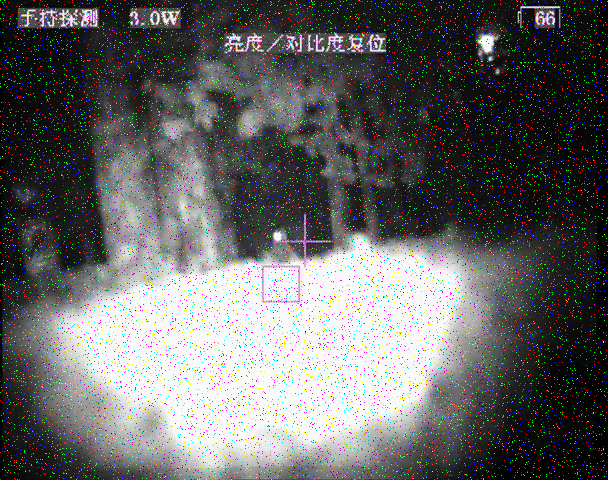my: (272, 231, 282, 241)
